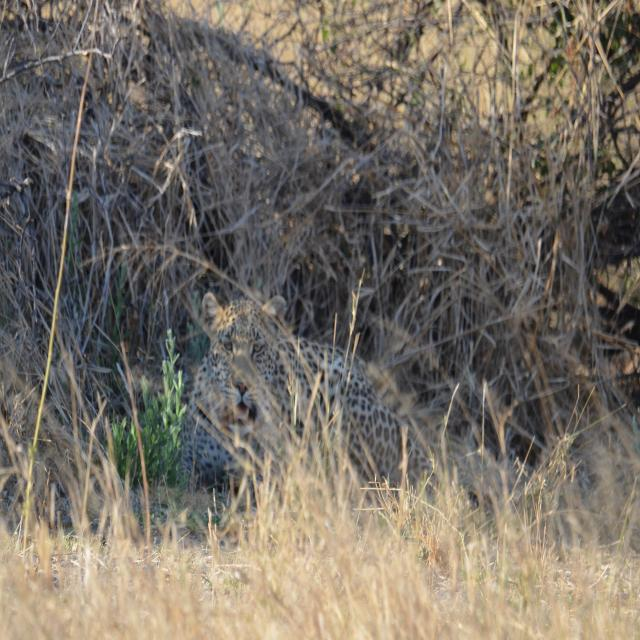Leopard: (182, 294, 442, 513)
